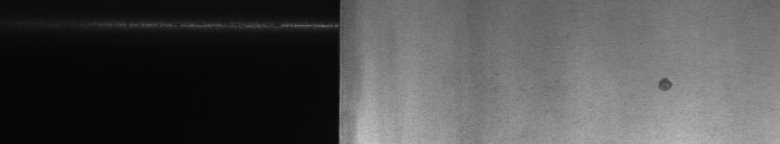fi: (653, 72, 676, 97)
